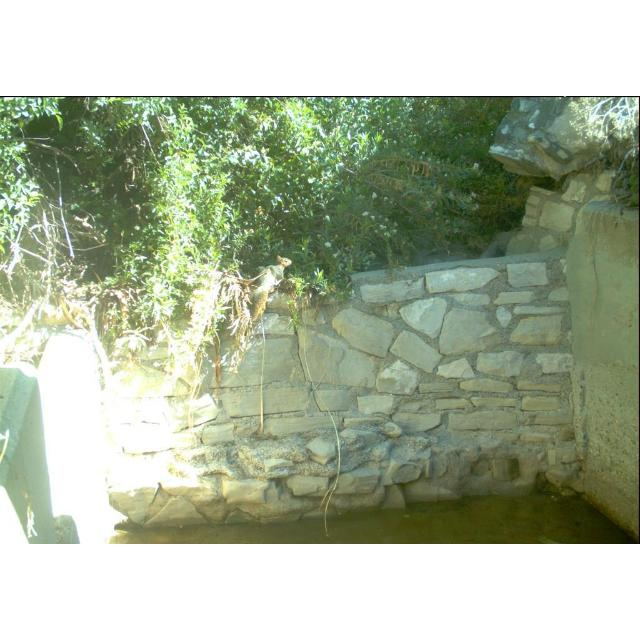animals: (247, 254, 293, 326)
